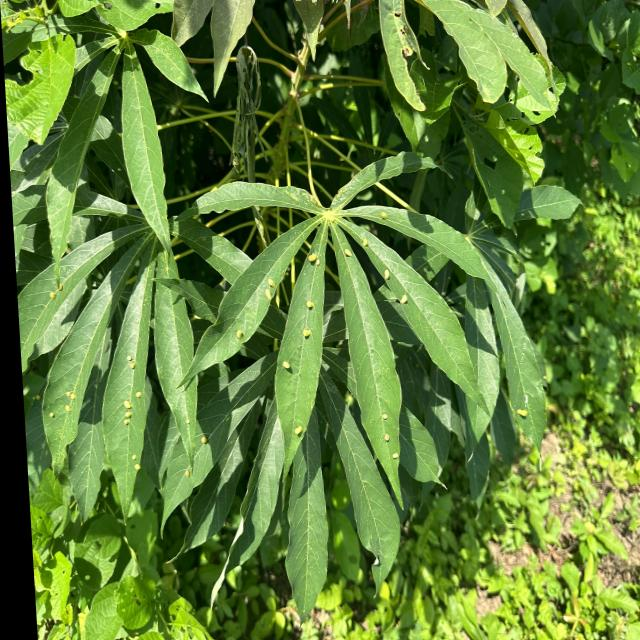Maleza: (445, 487, 640, 640), (562, 226, 640, 581), (24, 524, 158, 640), (470, 95, 574, 205), (0, 10, 75, 145)
Mosca: (373, 402, 409, 467), (229, 323, 261, 371), (337, 234, 376, 266), (117, 389, 148, 427), (257, 268, 285, 305), (55, 384, 83, 419), (185, 427, 225, 449), (283, 421, 310, 450), (119, 346, 145, 374), (126, 449, 147, 482), (42, 275, 68, 301), (515, 402, 539, 426), (306, 245, 323, 276), (292, 326, 326, 341), (182, 461, 203, 485), (301, 296, 327, 314), (378, 268, 400, 289), (370, 203, 391, 224), (280, 349, 294, 377), (393, 291, 408, 313), (43, 406, 60, 422)
